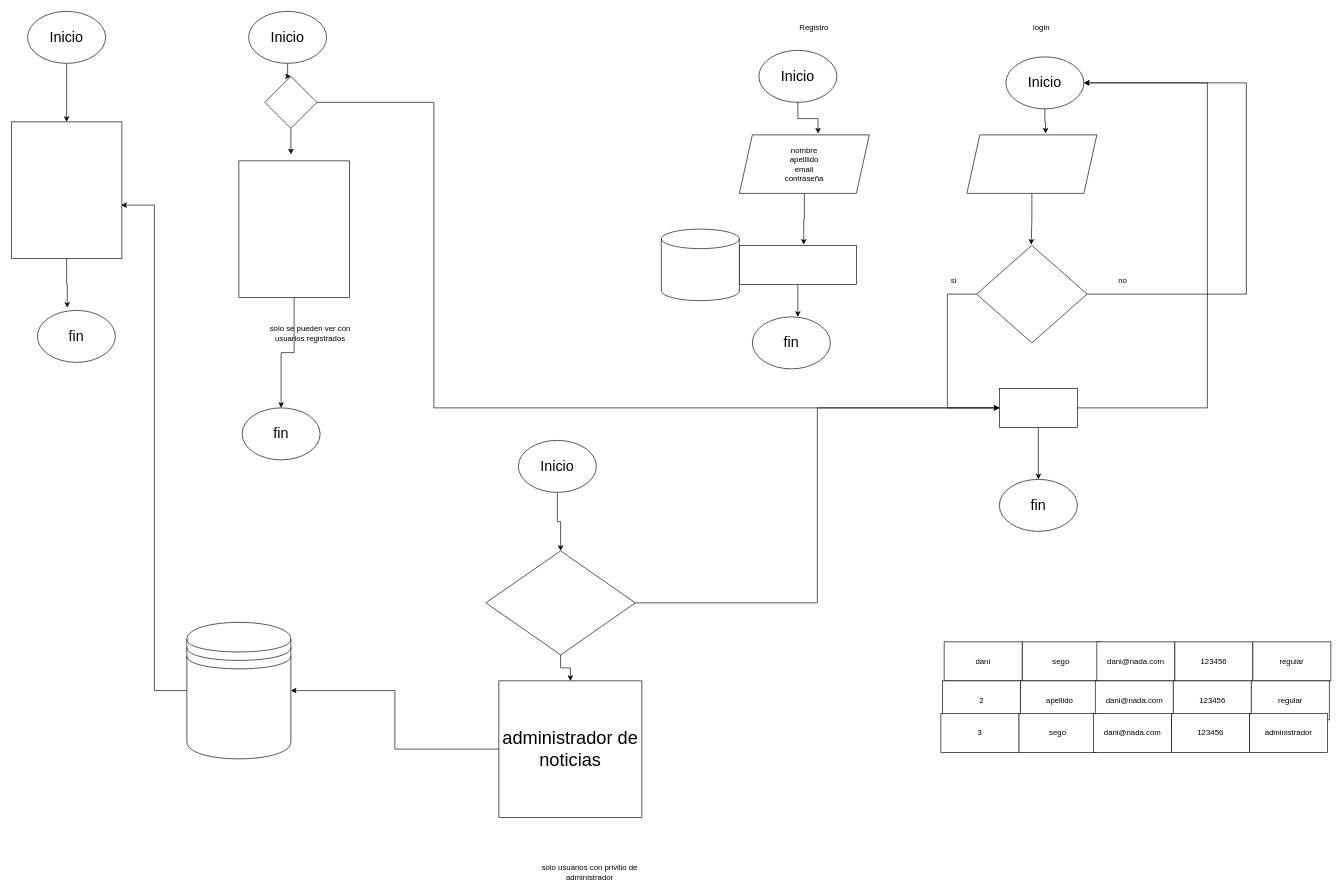
Some shapes in this 1342 by 894 pixel diagram are drawn without their labels. Here are the shapes that lost their labels. From the top down, the centre of each, then its label:
the point at 290,102: usuario loguead?
the point at 1031,163: email contraseña
the point at 66,189: Home del diario
the point at 293,228: sección interna para mostrar la noticia completa
the point at 700,264: nombre apellido email contraseña perfil = regular
the point at 797,264: guardar registro
the point at 1031,294: email y contraseña validos?
the point at 1038,407: usuario logueado
the point at 560,602: usuario loguead? y usuario administrador?
